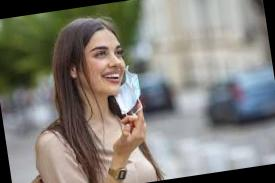mask_weared_incorrect: (90, 40, 138, 103)
